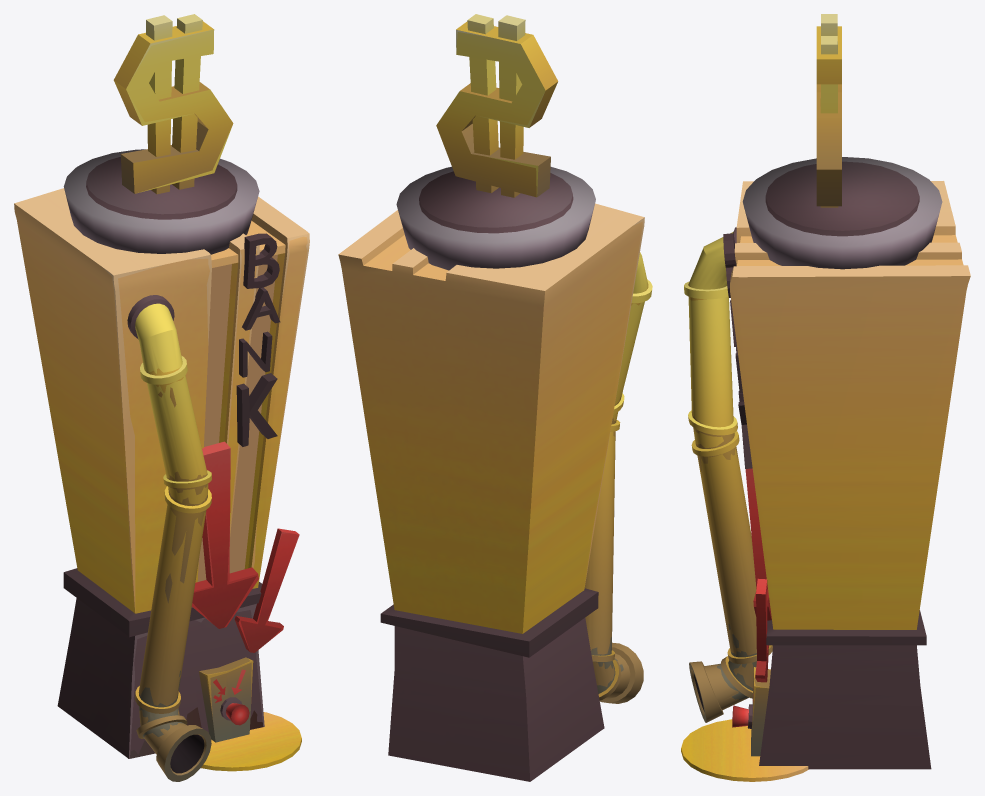
Rendered from SM_Bank_jaune.fbx.
3 renders of one model, left to right at view 1: azimuth 30°, elevation 25°; view 2: azimuth 150°, elevation 25°; view 3: azimuth 270°, elevation 25°, orthographic.
Parts seen in each view (by area): view 1: Cylinder.020, Cube.046; view 2: Cylinder.020, Cube.046; view 3: Cylinder.020, Cube.046.
Boxes of the visible parts, x1=… form: Cylinder.020: x1=14, y1=188, x2=309, y2=781; Cube.046: x1=63, y1=14, x2=259, y2=254; Cylinder.020: x1=338, y1=203, x2=652, y2=781; Cube.046: x1=396, y1=14, x2=595, y2=270; Cylinder.020: x1=681, y1=181, x2=970, y2=781; Cube.046: x1=742, y1=14, x2=942, y2=269.
Size of the model in its own units: 11.9 by 41.41 by 15.11.
